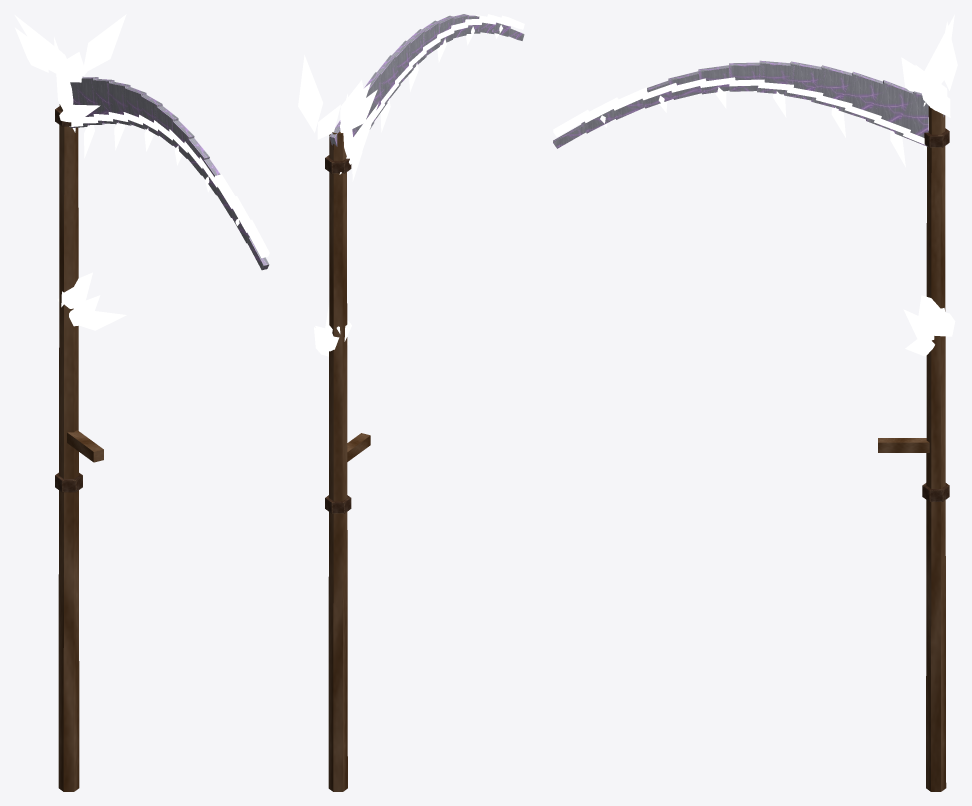
Rendered from BlightScythe.fbx.
3 views of the same model, side by side, from view 1: azimuth 30°, elevation 25°; view 2: azimuth 150°, elevation 25°; view 3: azimuth 270°, elevation 25° (orthographic). The views are drawn at different scales.
Parts seen in each view (by area): view 1: Handle, Glow, Blade; view 2: Handle, Glow, Blade; view 3: Handle, Blade, Glow.
Boxes of the visible parts, left/top/right/bottom form: Handle: left=55, top=104, right=103, bottom=791; Glow: left=14, top=14, right=269, bottom=330; Blade: left=70, top=76, right=269, bottom=270; Handle: left=325, top=132, right=370, bottom=791; Glow: left=298, top=14, right=524, bottom=356; Blade: left=329, top=14, right=524, bottom=146; Handle: left=878, top=106, right=949, bottom=791; Blade: left=553, top=60, right=944, bottom=148; Glow: left=553, top=14, right=957, bottom=356.
Size of the model in its own units: 84.72 by 659 by 321.
Materials: 2 (1 with a texture image).
